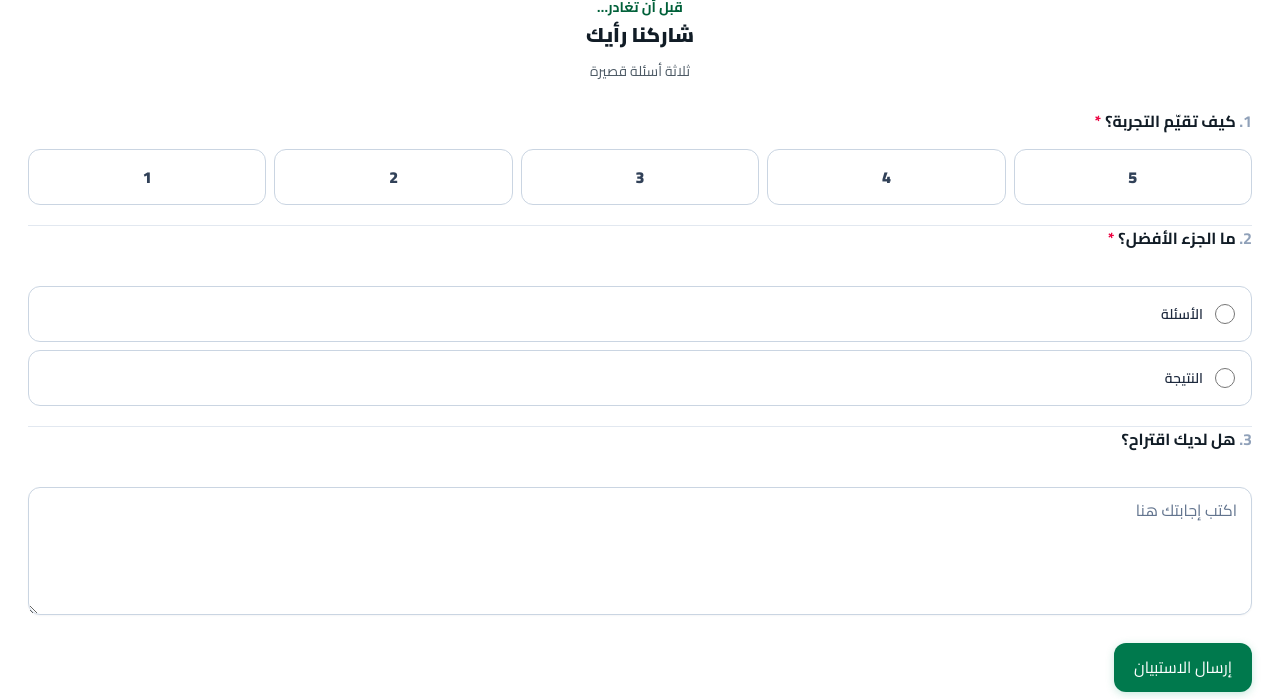
Test: PlayerSurveyPanel › يمنع الإرسال محليًا عند غياب إجابة مطلوبة
(page scrolled)
Check: the heading "شاركنا رأيك" is shown, box [586,16,694,53]
Click the button "إرسال الاستبيان": (1183, 667) [1114,643,1252,692]
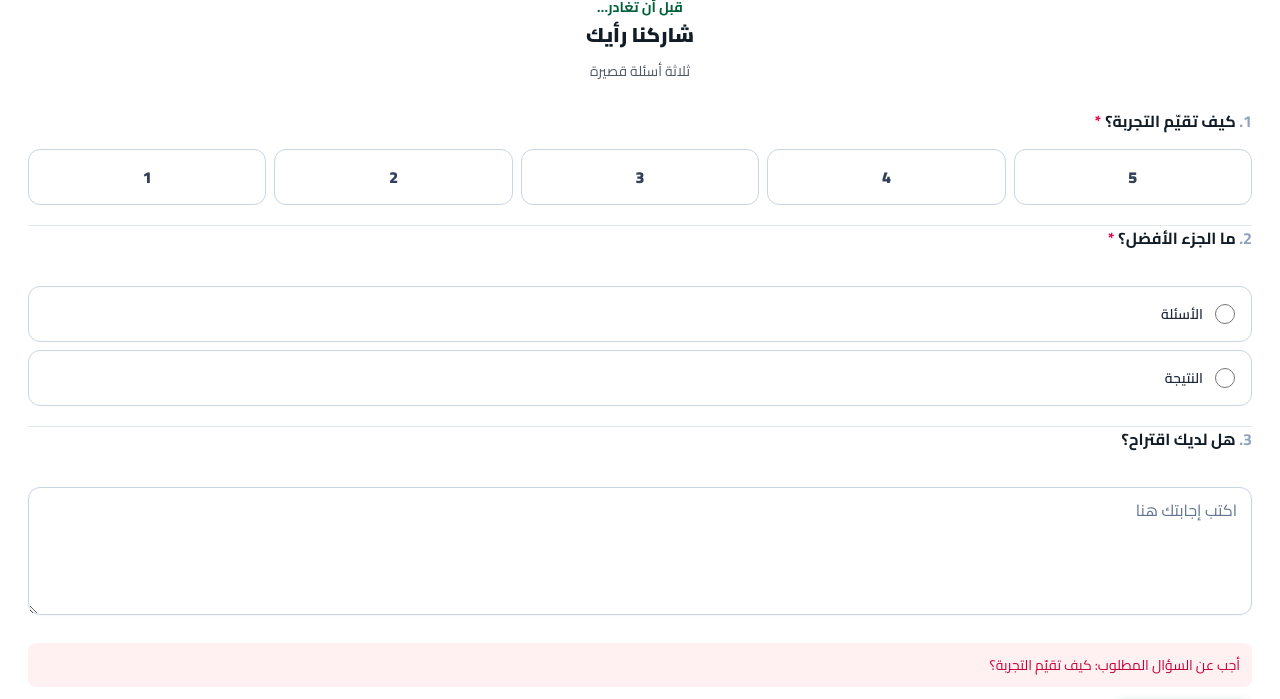
Check: the message reads "أجب عن السؤال المطلوب: كيف تقيّم التجربة؟", box [990,652,1240,678]
